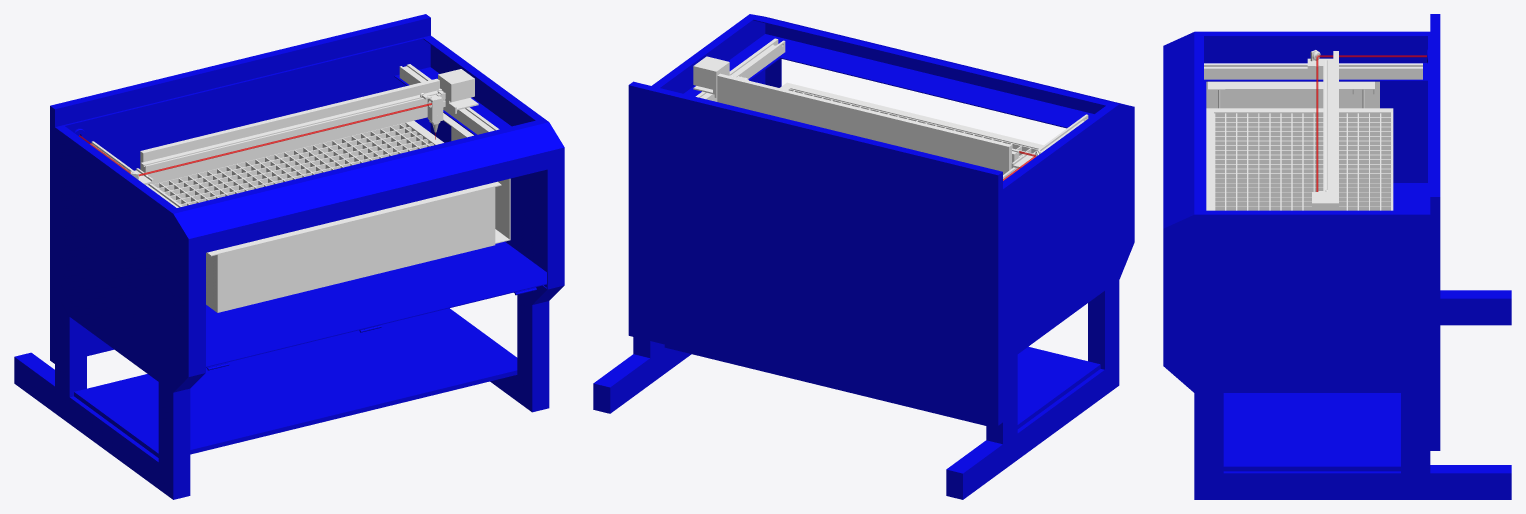
Rendered from insides.obj.
3 views of the same model, side by side, from view 1: azimuth 30°, elevation 25°; view 2: azimuth 150°, elevation 25°; view 3: azimuth 270°, elevation 25° (orthographic).
Parts seen in each view (by area): view 1: object_16, object_17, object_20, object_14, object_19, object_21, object_15; view 2: object_16, object_20, object_17, object_21, object_14; view 3: object_16, object_14, object_23, object_22, object_20, object_17, object_15.
Boxes of the visible parts, x1=… form: object_16: x1=14, y1=14, x2=564, y2=499; object_17: x1=206, y1=120, x2=501, y2=312; object_20: x1=140, y1=69, x2=478, y2=183; object_14: x1=153, y1=123, x2=433, y2=206; object_19: x1=443, y1=113, x2=510, y2=243; object_21: x1=399, y1=64, x2=499, y2=134; object_15: x1=79, y1=103, x2=435, y2=176; object_16: x1=593, y1=14, x2=1134, y2=499; object_20: x1=693, y1=56, x2=1019, y2=174; object_17: x1=780, y1=82, x2=1043, y2=149; object_21: x1=695, y1=38, x2=785, y2=101; object_14: x1=789, y1=89, x2=1037, y2=157; object_16: x1=1163, y1=14, x2=1511, y2=499; object_14: x1=1214, y1=113, x2=1390, y2=210; object_23: x1=1206, y1=81, x2=1379, y2=108; object_22: x1=1204, y1=63, x2=1422, y2=79; object_20: x1=1312, y1=51, x2=1338, y2=210; object_17: x1=1206, y1=108, x2=1393, y2=210; object_15: x1=1316, y1=55, x2=1426, y2=191.
Size of the model in its own units: 44 by 34 by 35.38.
